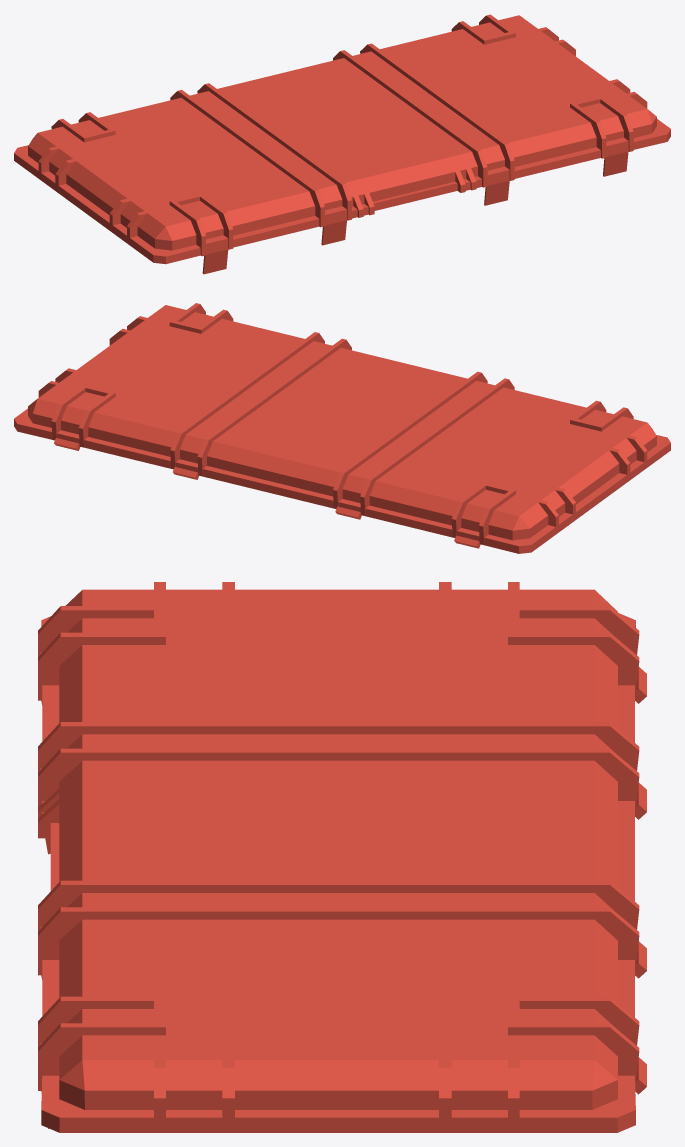
Rendered from SM_Box_Equipment_Sturdy_Big_Top.fbx.
3 views of the same model, one above another, from view 1: azimuth 30°, elevation 25°; view 2: azimuth 150°, elevation 25°; view 3: azimuth 270°, elevation 25° (orthographic). The views are drawn at different scales.
Visible parts, largest first — view 1: SM_Box_Equipment_Sturdy_Big_Top; view 2: SM_Box_Equipment_Sturdy_Big_Top; view 3: SM_Box_Equipment_Sturdy_Big_Top.
Boxes of the visible parts, <box> form: SM_Box_Equipment_Sturdy_Big_Top: <box>14,14,670,274</box>; SM_Box_Equipment_Sturdy_Big_Top: <box>14,303,670,553</box>; SM_Box_Equipment_Sturdy_Big_Top: <box>38,582,646,1132</box>.
Bounding box in the file's own units: 41.83 × 82.06 × 8.02.
